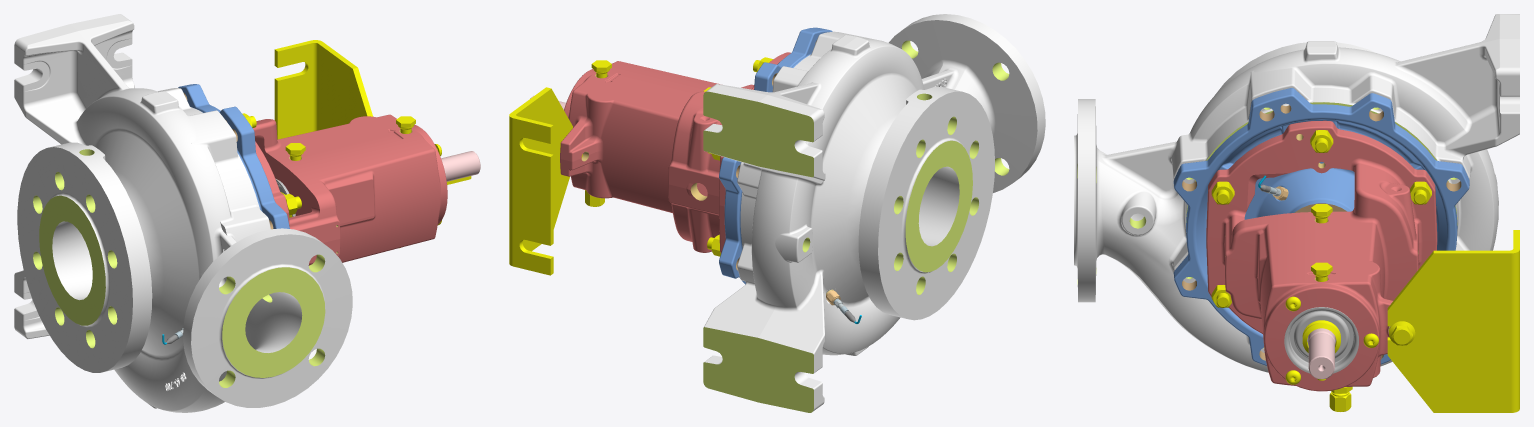
Rendered from Etanorm 80-65-200.fbx.
3 views of the same model, side by side, from view 1: azimuth 30°, elevation 25°; view 2: azimuth 150°, elevation 25°; view 3: azimuth 270°, elevation 25° (orthographic). The views are drawn at different scales.
Parts seen in each view (by area): view 1: Volumenkörper77, Volumenkörper7, Volumenkörper10, Volumenkörper96, Volumenkörper6; view 2: Volumenkörper77, Volumenkörper7, Volumenkörper10, Volumenkörper96; view 3: Volumenkörper77, Volumenkörper7, Volumenkörper10, Volumenkörper96, Volumenkörper53, Volumenkörper6, Volumenkörper15, Volumenkörper41.
Boxes of the visible parts, x1,y1,x2,y2 form: Volumenkörper77: (14,14,352,412); Volumenkörper7: (253,114,447,265); Volumenkörper10: (274,40,372,139); Volumenkörper96: (178,84,289,229); Volumenkörper6: (441,151,480,181); Volumenkörper77: (703,14,1045,412); Volumenkörper7: (560,52,790,253); Volumenkörper10: (509,87,572,275); Volumenkörper96: (719,27,832,284); Volumenkörper77: (1074,14,1519,372); Volumenkörper7: (1206,120,1437,391); Volumenkörper10: (1387,230,1519,412); Volumenkörper96: (1173,88,1469,365); Volumenkörper53: (1284,307,1358,373); Volumenkörper6: (1308,328,1335,379); Volumenkörper15: (1389,321,1415,345); Volumenkörper41: (1302,320,1340,352).
Bounding box in the file's own units: 46000 × 33967 × 40500.
